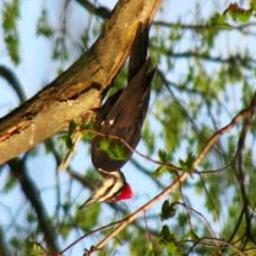Woodpecker: (73, 17, 159, 214)
